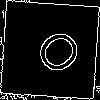O: (25, 25, 86, 85)
